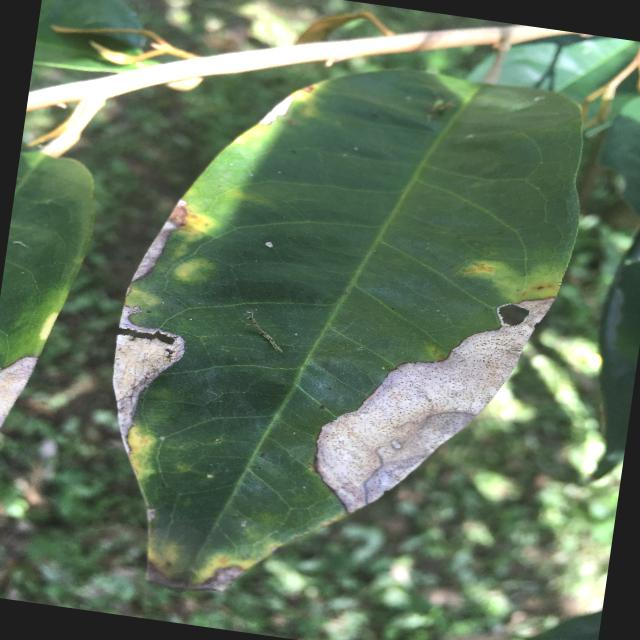Leaf Blight: (71, 24, 611, 639)
